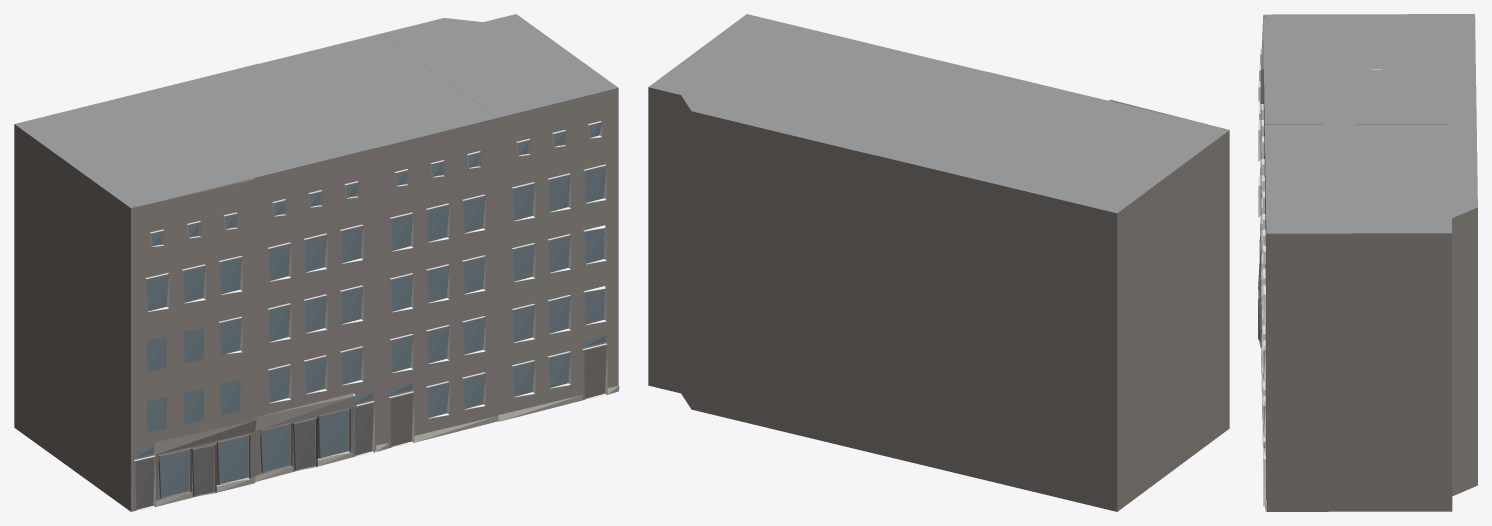
The model's file is chunk-face-molukken-7-29-r2.lod2.glb.
3 views of the same model, side by side, from view 1: azimuth 30°, elevation 25°; view 2: azimuth 150°, elevation 25°; view 3: azimuth 270°, elevation 25° (orthographic). The views are drawn at different scales.
Parts seen in each view (by area): view 1: lod2; view 2: lod2; view 3: lod2.
Part boxes in pixels (x1,y1,x2,y2): lod2: (14, 14, 619, 511); lod2: (648, 14, 1229, 511); lod2: (1258, 14, 1477, 511).
Size of the model in its own units: 24.87 by 14.71 by 10.53.
